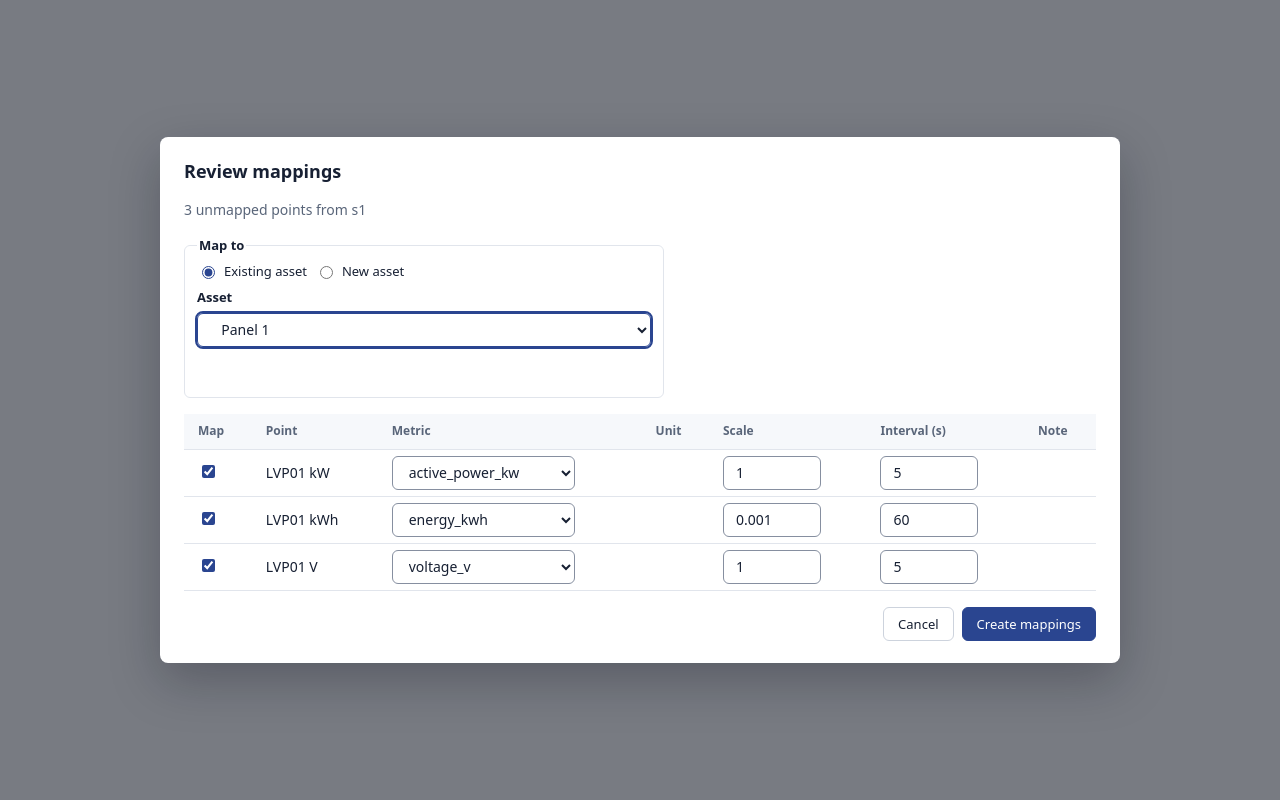
Test: ReviewDialog › two checked rows with the same metric conflict, and changing one metric resolves it
The image size is (1280, 800).
Select "active_power_kw" in the dropdown named "Metric for LVP01 kWh" at (483, 520), box x1=392 y1=503 x2=575 y2=537
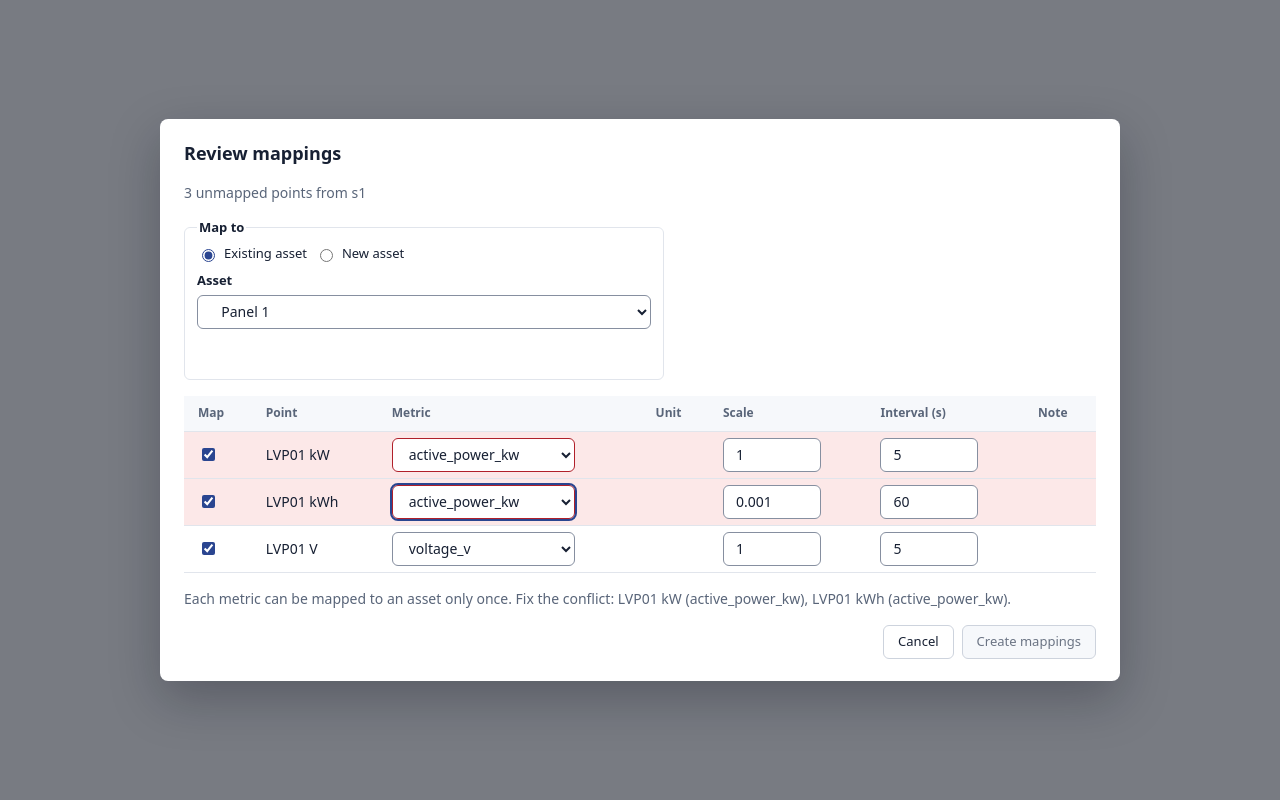
Check: the button "Create mappings" is disabled, box x1=962 y1=624 x2=1096 y2=658
Select "frequency_hz" in the dropdown named "Metric for LVP01 kWh" at (483, 502), box x1=392 y1=485 x2=575 y2=519
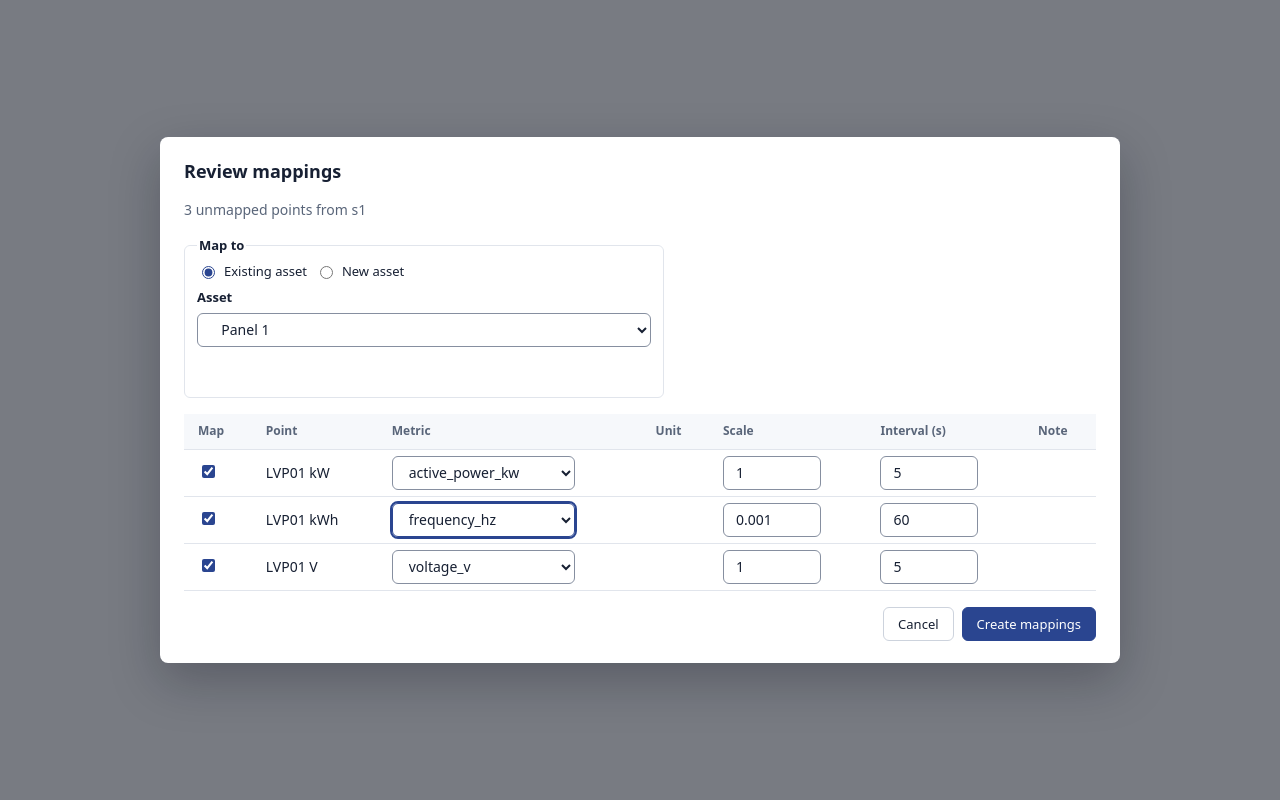
Check: the button "Create mappings" is enabled, box x1=962 y1=607 x2=1096 y2=641
